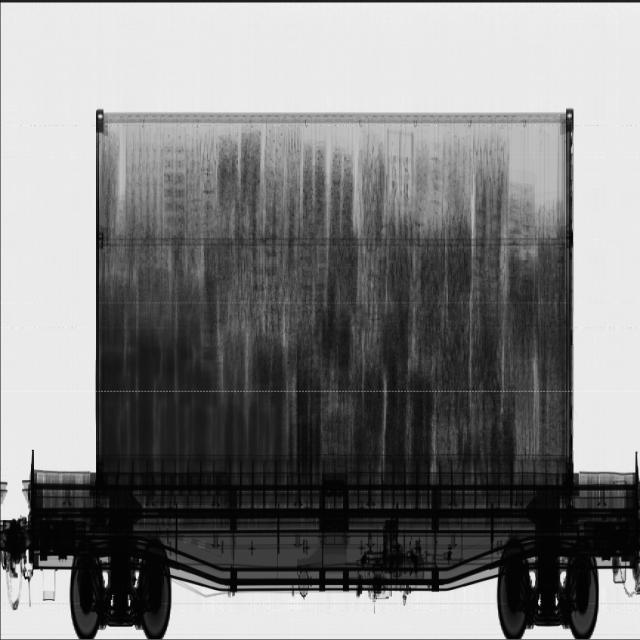shoes: (99, 132, 215, 275)
textiles: (216, 130, 568, 452)
